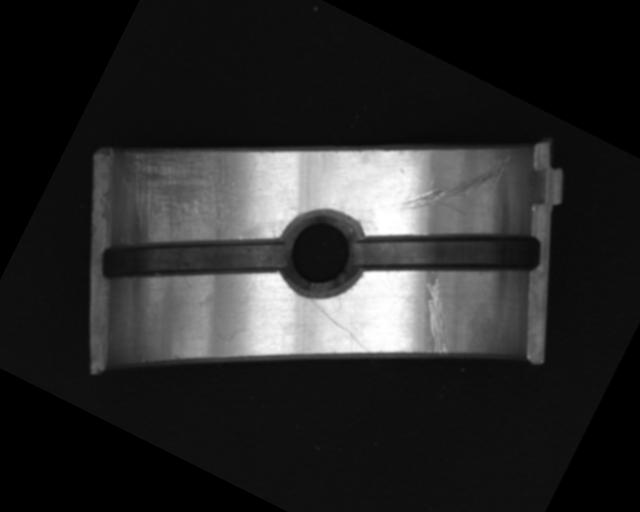gap: (94, 173, 291, 345), (352, 171, 546, 335)
hole: (261, 193, 382, 315)
nick: (401, 119, 514, 241), (397, 270, 477, 360), (299, 297, 381, 354)
scratch: (90, 109, 260, 271)
